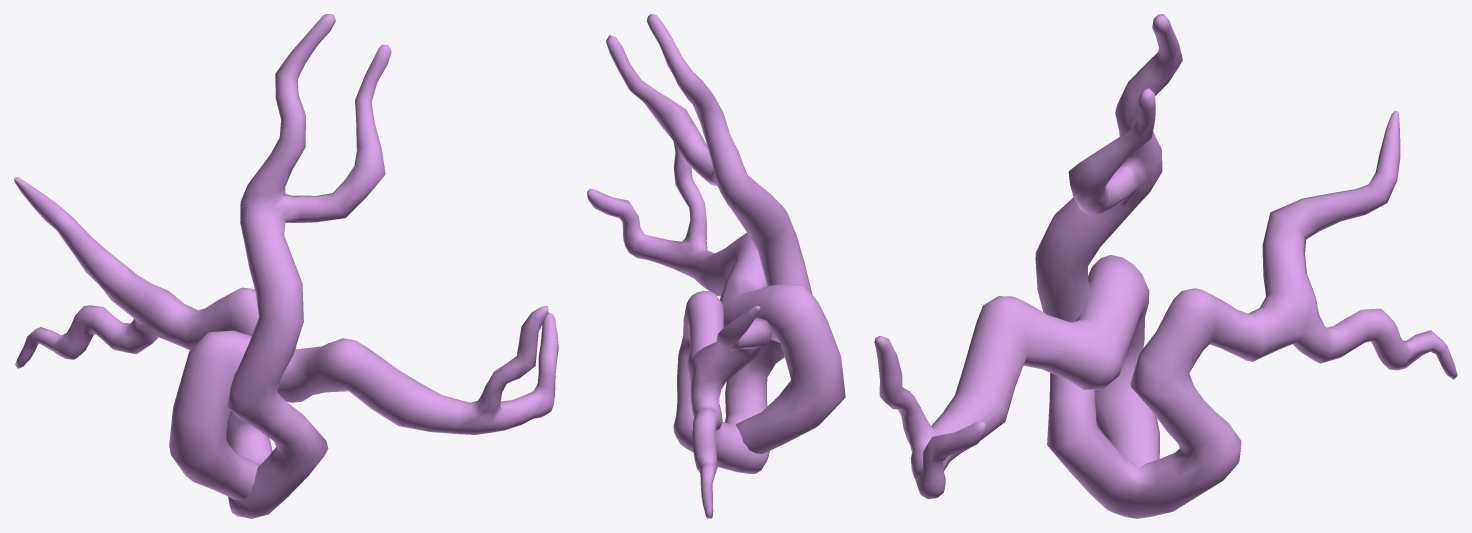
The model's file is steer3.fbx.
3 views of the same model, side by side, from view 1: azimuth 30°, elevation 25°; view 2: azimuth 150°, elevation 25°; view 3: azimuth 270°, elevation 25° (orthographic). The views are drawn at different scales.
Visible parts, largest first — view 1: squid-bigantlers; view 2: squid-bigantlers; view 3: squid-bigantlers.
Part boxes in pixels (x1,y1,x2,y2): squid-bigantlers: (14, 14, 558, 518); squid-bigantlers: (587, 14, 845, 518); squid-bigantlers: (874, 14, 1457, 518).
Bounding box in the file's own units: 108 × 135 × 128.
